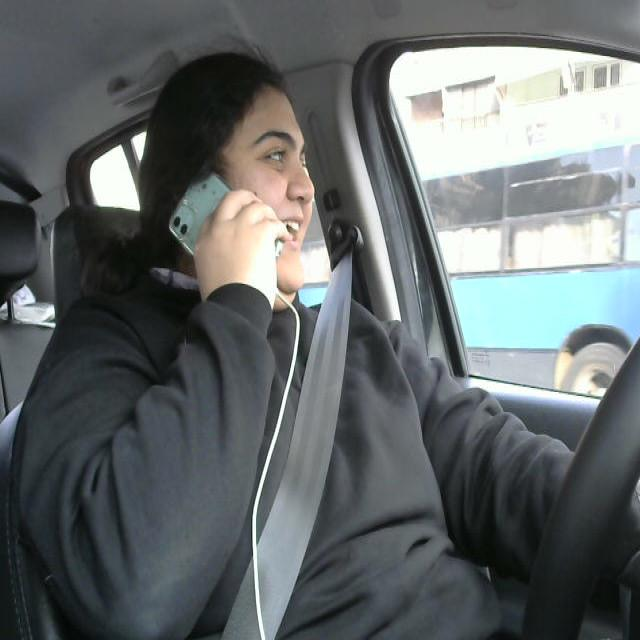mobile use: (163, 170, 284, 314)
